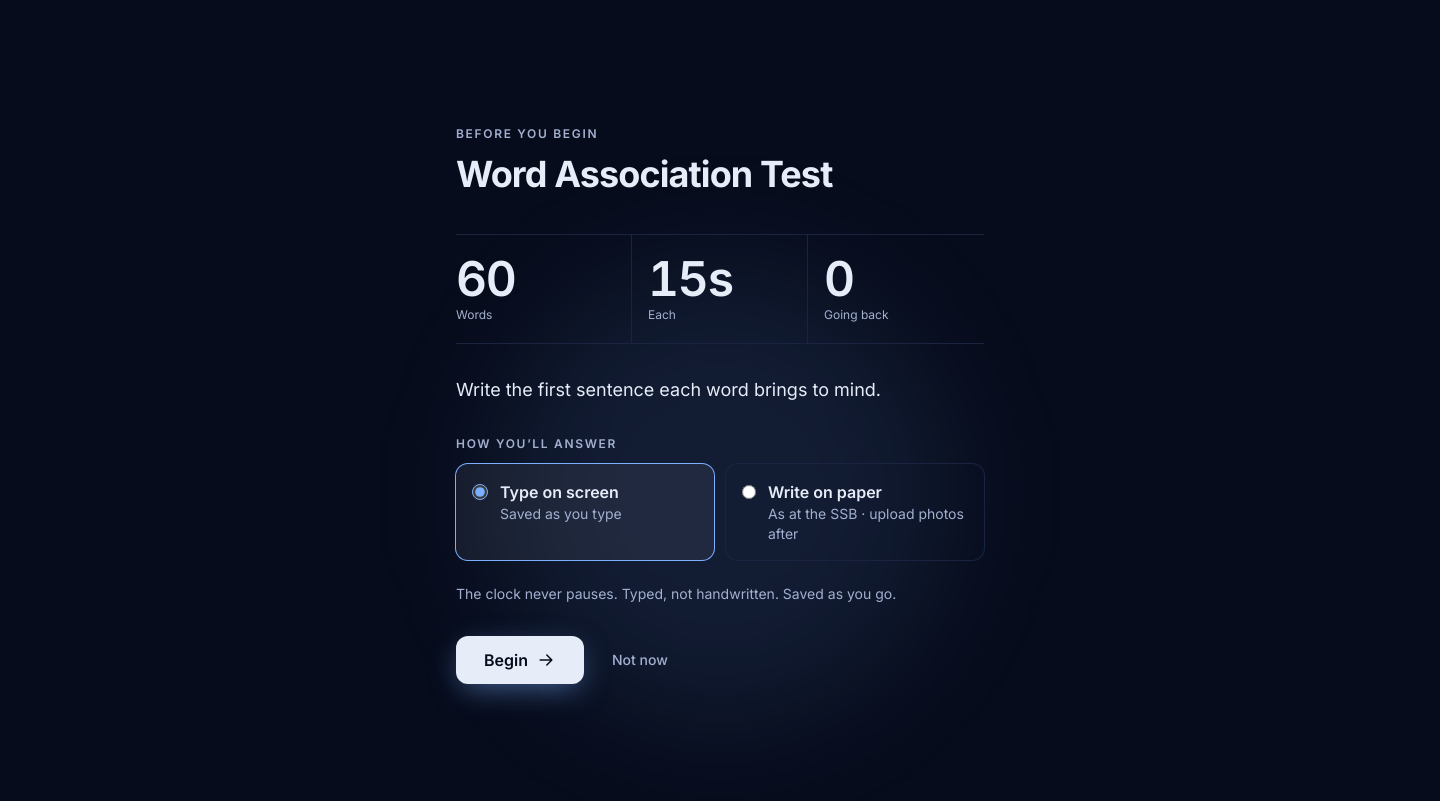
it: paper mode (D22) — the app keeps the clock, the candidate writes on a sheet › ends by keeping the code in view and going on to photograph the sheet
Step 1. Click the radio button labelled "Write on paper As at the SSB · upload photos after" → coordinates (749, 492), box x1=742 y1=484 x2=756 y2=500
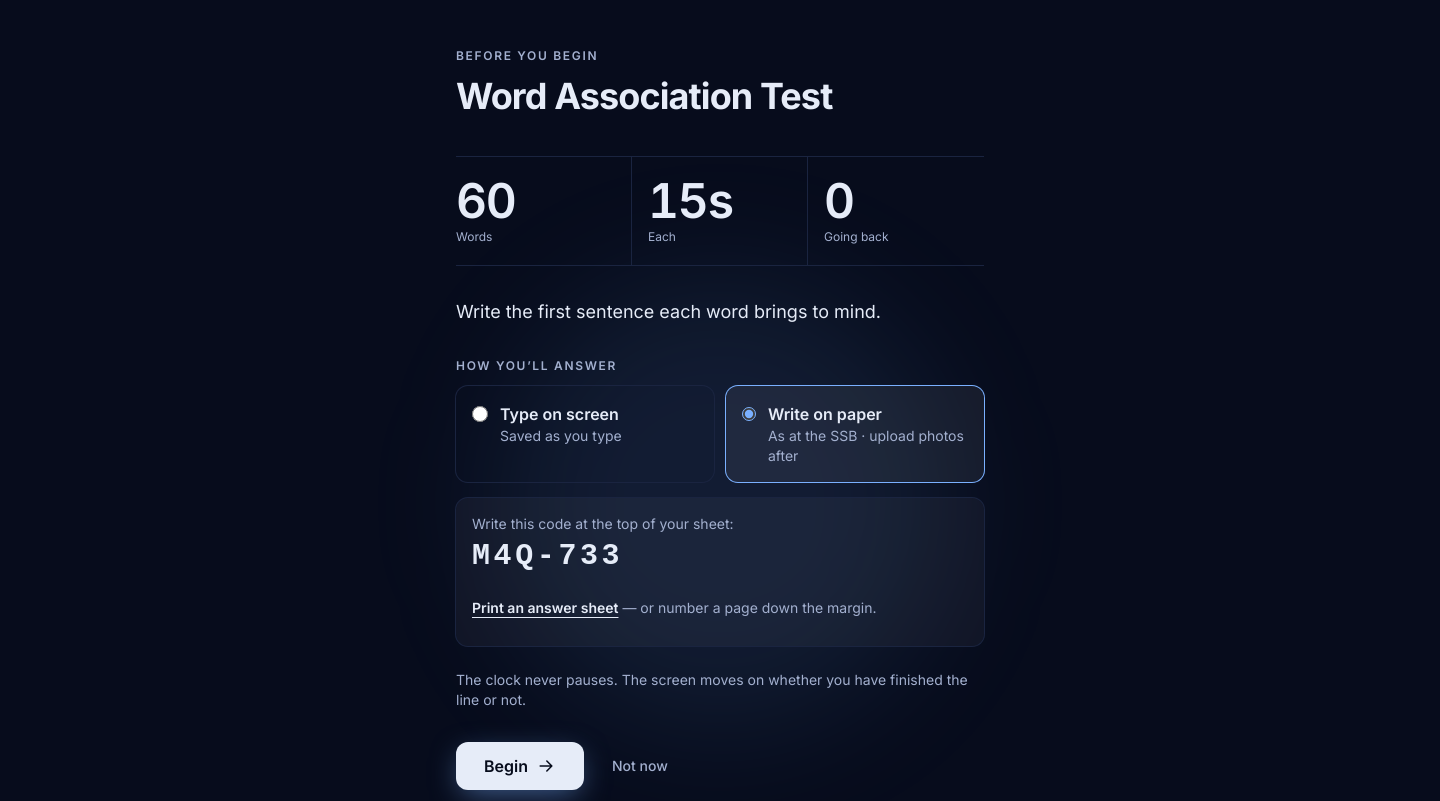
Step 2. Click the button "Begin" → coordinates (520, 766), box x1=456 y1=742 x2=584 y2=790
Wait 900000 ms
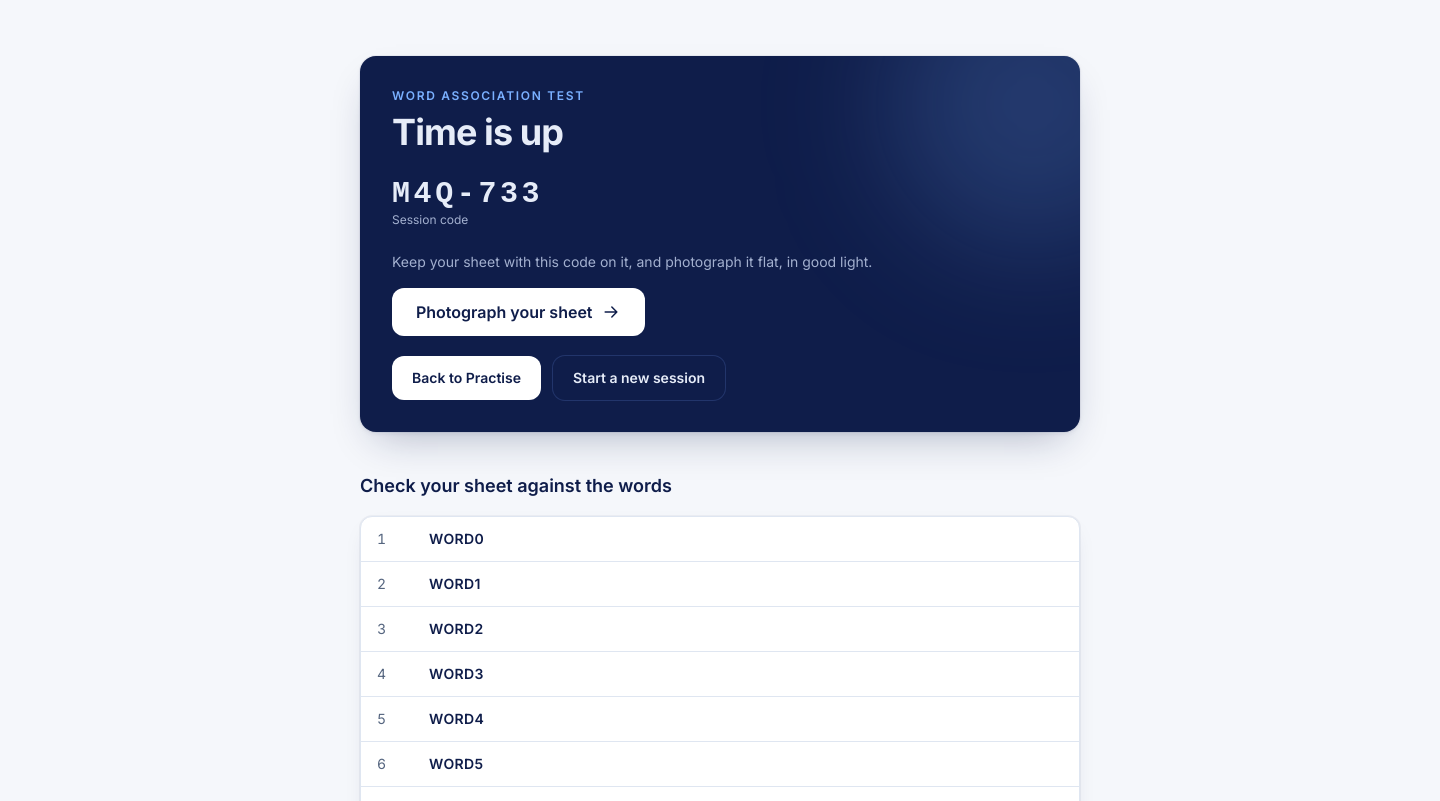
expect the heading "Time is up" is shown: met, box x1=392 y1=110 x2=563 y2=154
